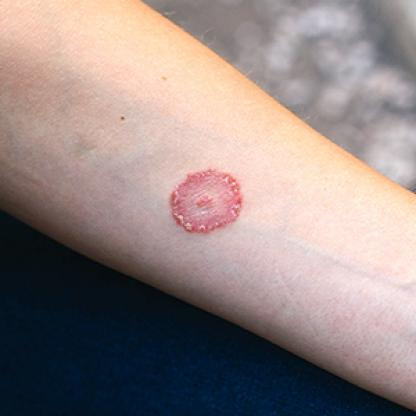Ringworm: (164, 157, 249, 243)
